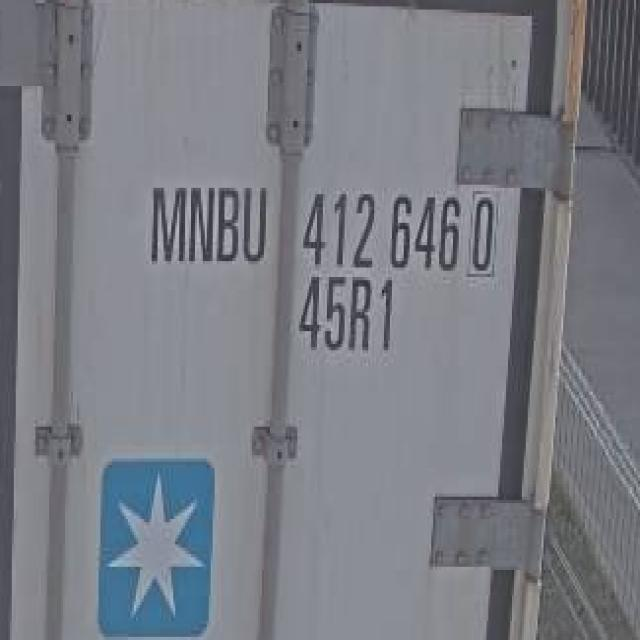dv: (465, 188, 502, 276)
owner: (146, 177, 276, 266)
serial: (295, 188, 460, 275)
size: (293, 268, 402, 360)
